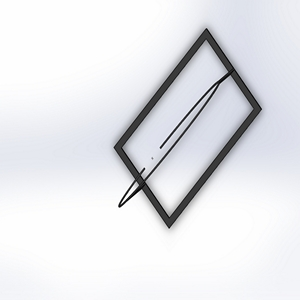circle: (111, 26, 262, 231)
